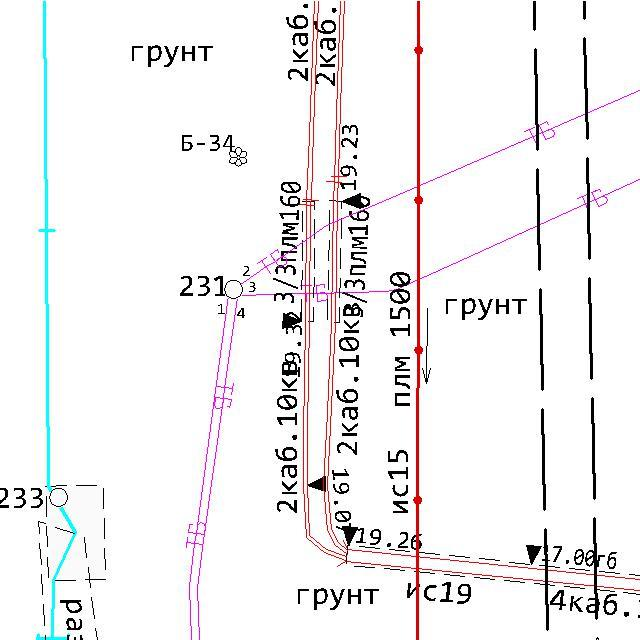bushes: (228, 146, 249, 169)
mark: (304, 474, 329, 494), (523, 543, 543, 567), (280, 311, 302, 331), (340, 525, 359, 548), (341, 191, 363, 210)
well: (221, 278, 246, 301), (48, 486, 70, 509)
